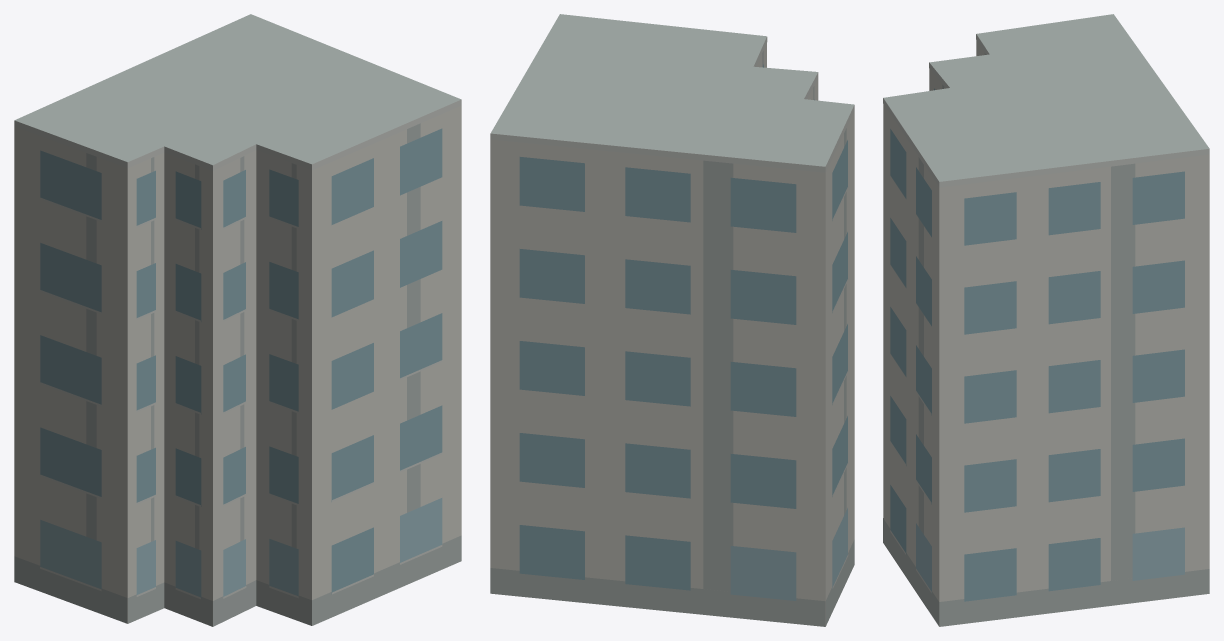
The model's file is survey-upis-32809283.glb.
3 renders of one model, left to right at view 1: azimuth 30°, elevation 25°; view 2: azimuth 150°, elevation 25°; view 3: azimuth 270°, elevation 25°, orthographic. The views are drawn at different scales.
Parts seen in each view (by area): view 1: survey-upis-32809283.tmp; view 2: survey-upis-32809283.tmp; view 3: survey-upis-32809283.tmp.
Part boxes in pixels (left/top/right/bottom): survey-upis-32809283.tmp: left=14, top=14, right=461, bottom=626; survey-upis-32809283.tmp: left=490, top=14, right=854, bottom=626; survey-upis-32809283.tmp: left=883, top=14, right=1209, bottom=626.
Bounding box in the file's own units: 15.22 × 18.8 × 12.51.
